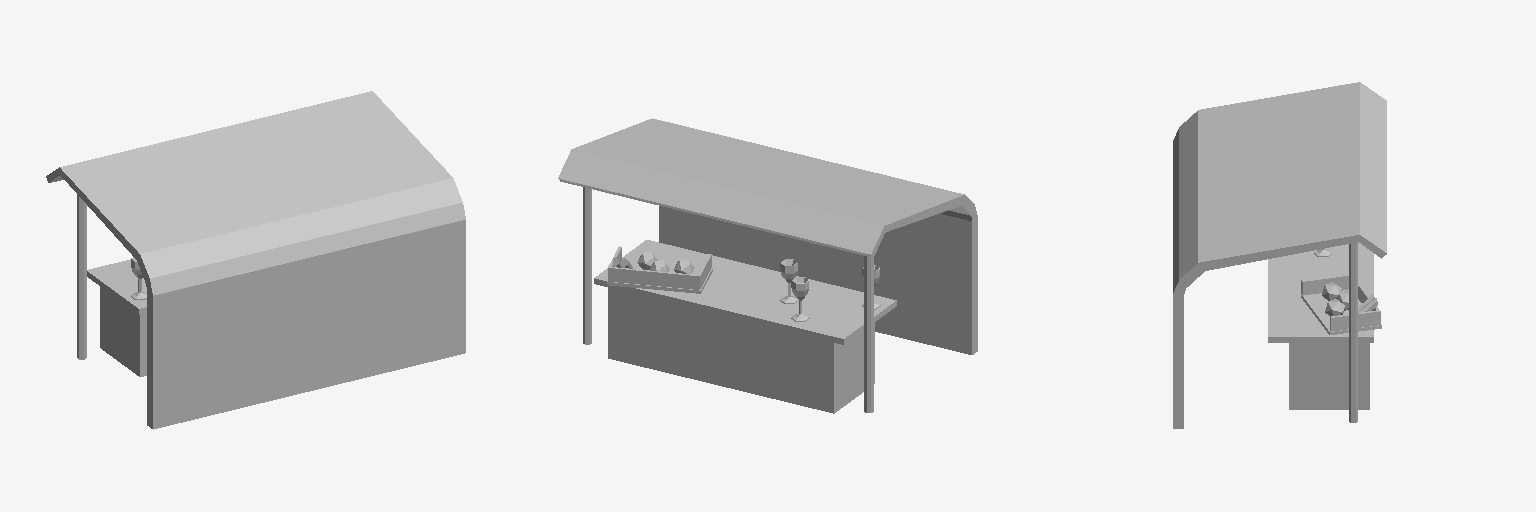
The model's file is stallCustom.obj.
3 views of the same model, side by side, from view 1: azimuth 30°, elevation 25°; view 2: azimuth 150°, elevation 25°; view 3: azimuth 270°, elevation 25° (orthographic).
Visible parts, largest first — view 1: Cube; view 2: Cube; view 3: Cube.
Boxes of the visible parts, <box> form: Cube: <box>46,91,465,429</box>; Cube: <box>558,118,977,413</box>; Cube: <box>1173,82,1386,428</box>.
Size of the model in its own units: 8.92 by 5.32 by 5.29.